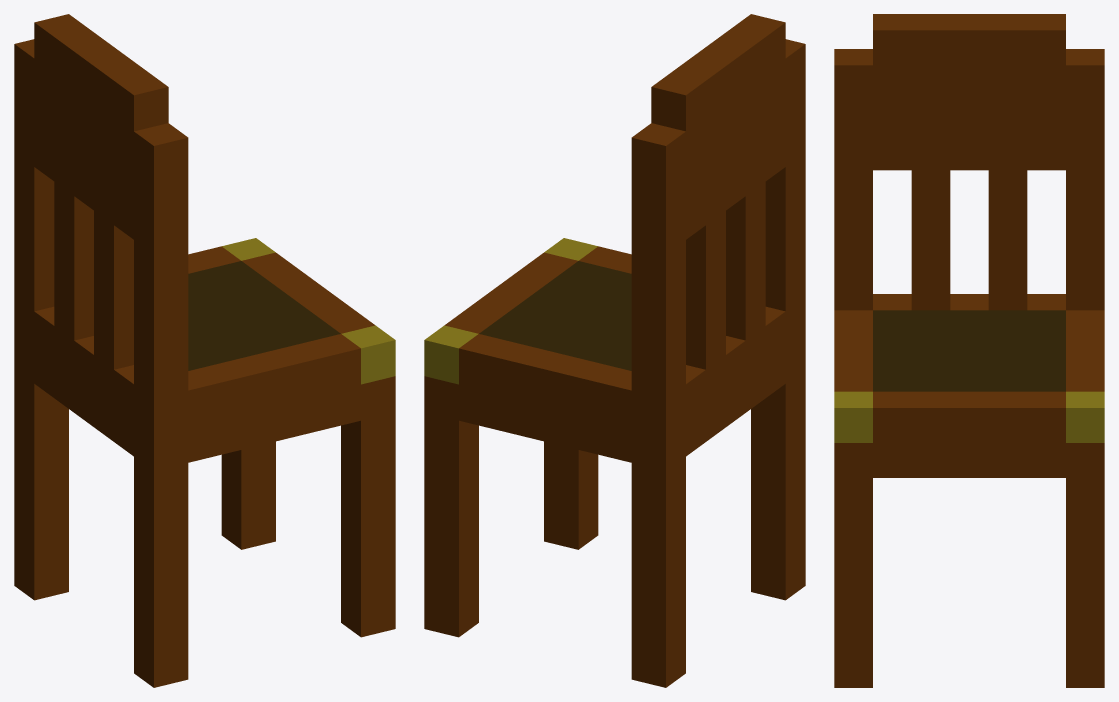
Rendered from Chair00.gltf.
3 renders of one model, left to right at view 1: azimuth 30°, elevation 25°; view 2: azimuth 150°, elevation 25°; view 3: azimuth 270°, elevation 25°, orthographic. The views are drawn at different scales.
Visible parts, largest first — view 1: Layer.1; view 2: Layer.1; view 3: Layer.1.
Boxes of the visible parts, x1,y1,x2,y2 form: Layer.1: [14, 14, 395, 687]; Layer.1: [424, 14, 805, 687]; Layer.1: [834, 14, 1104, 687].
Size of the model in its own units: 7 by 16 by 7.
